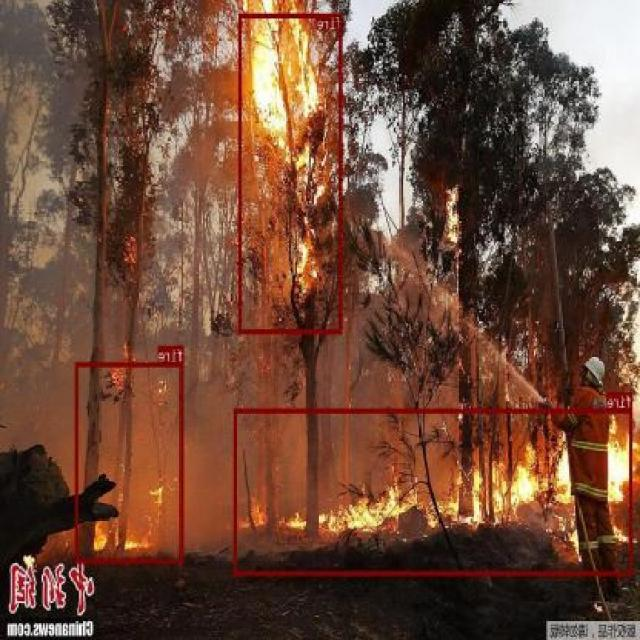fire: (234, 408, 634, 576), (238, 13, 344, 333), (76, 360, 184, 562)
